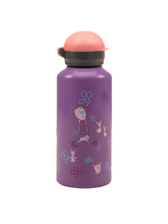other: (53, 31, 115, 188)
